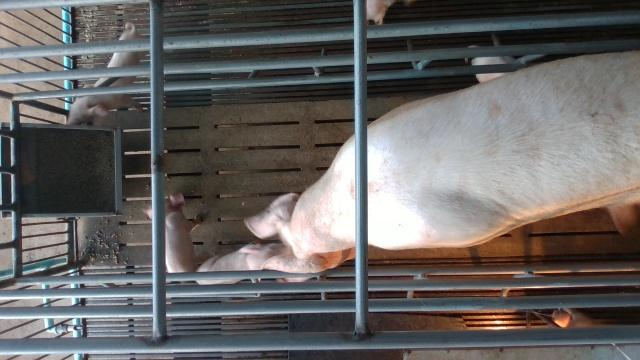piglet: (66, 22, 146, 125), (143, 192, 210, 273), (195, 241, 288, 286)
sow-stand: (242, 48, 640, 283)
